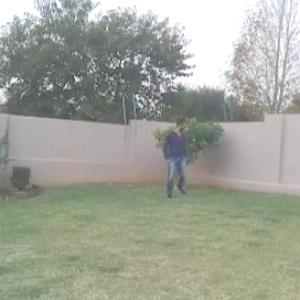follow: (163, 112, 190, 200)
